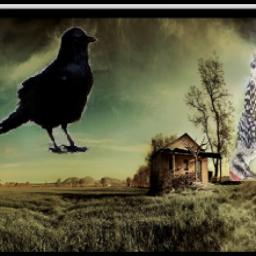Crow: (0, 25, 100, 154)
Woodpecker: (229, 21, 256, 181)
